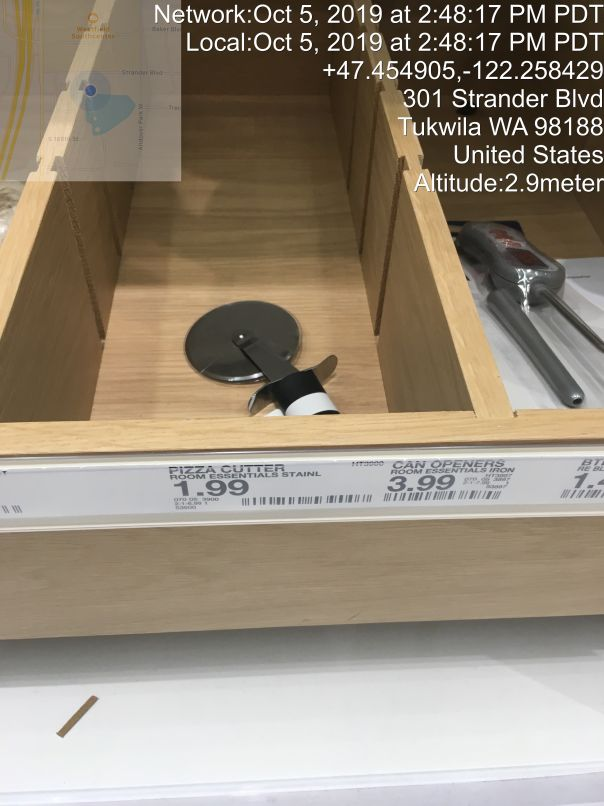Label: (161, 457, 381, 524)
Location: (390, 82, 604, 168)
Pizza Cutter: (168, 277, 371, 430)
Time: (151, 1, 604, 57)
Void: (167, 90, 340, 252)
